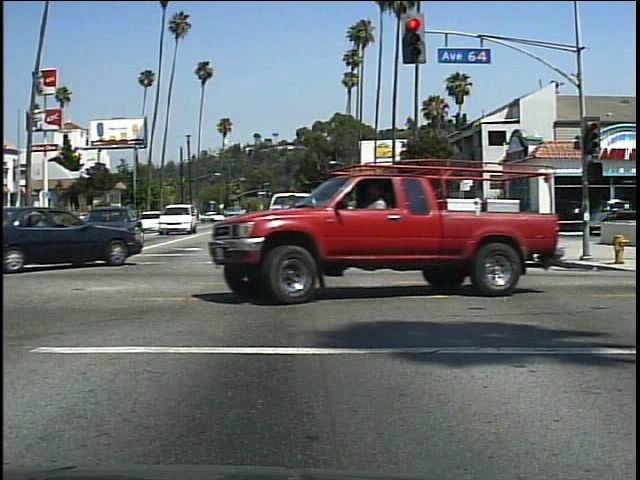person: (360, 177, 400, 291), (475, 200, 499, 236)
